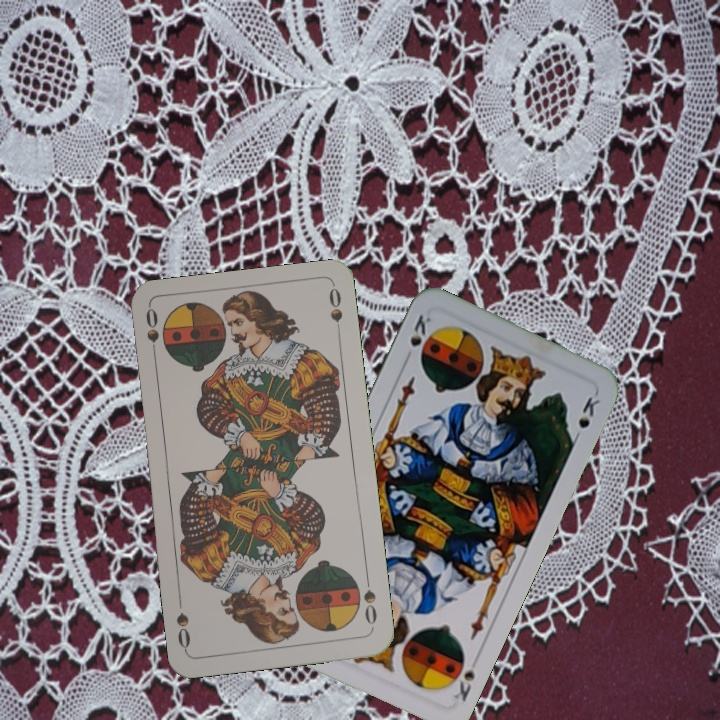SK: (449, 651, 482, 705), (406, 310, 434, 349)
SO: (141, 305, 162, 364), (360, 572, 379, 631)
